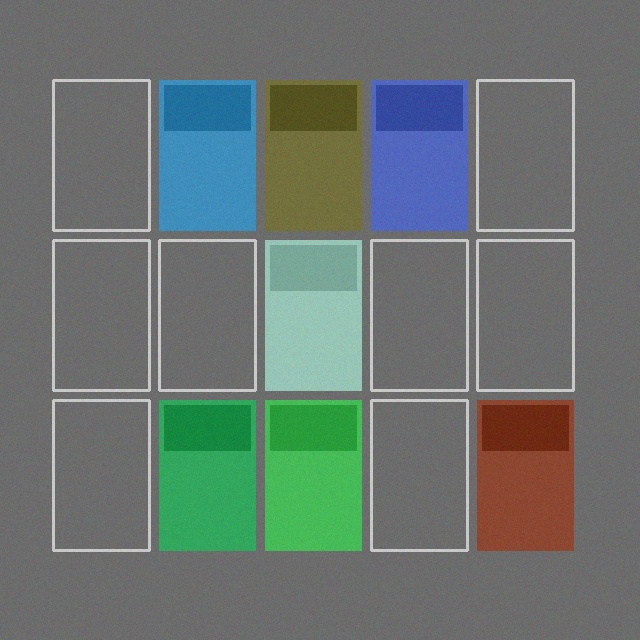space-empty: (53, 80, 149, 230), (477, 80, 573, 230), (53, 240, 149, 390), (159, 240, 255, 390), (371, 240, 467, 390), (477, 240, 573, 390), (53, 400, 149, 550), (371, 400, 467, 550)
space-occupied: (159, 80, 255, 230), (265, 80, 361, 230), (371, 80, 467, 230), (265, 240, 361, 390), (159, 400, 255, 550), (265, 400, 361, 550), (477, 400, 573, 550)
